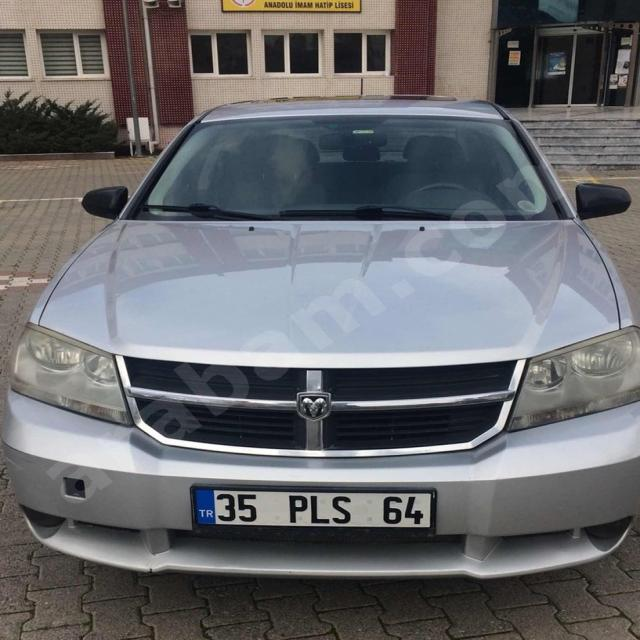license_plate: (192, 488, 432, 528)
